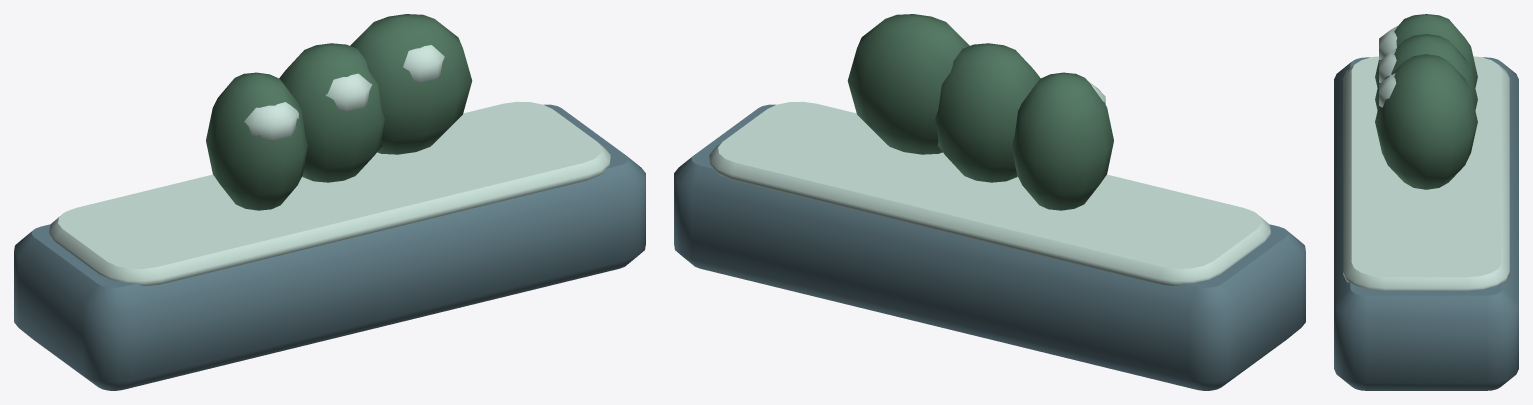
File: planter_1.glb
3 renders of one model, left to right at view 1: azimuth 30°, elevation 25°; view 2: azimuth 150°, elevation 25°; view 3: azimuth 270°, elevation 25°, orthographic. The views are drawn at different scales.
Visible parts, largest first — view 1: Planter; view 2: Planter; view 3: Planter.
Boxes of the visible parts, x1,y1,x2,y2 form: Planter: [14, 14, 645, 390]; Planter: [674, 14, 1305, 390]; Planter: [1334, 14, 1518, 390].
Bounding box in the file's own units: 2.55 × 1.15 × 0.79.
